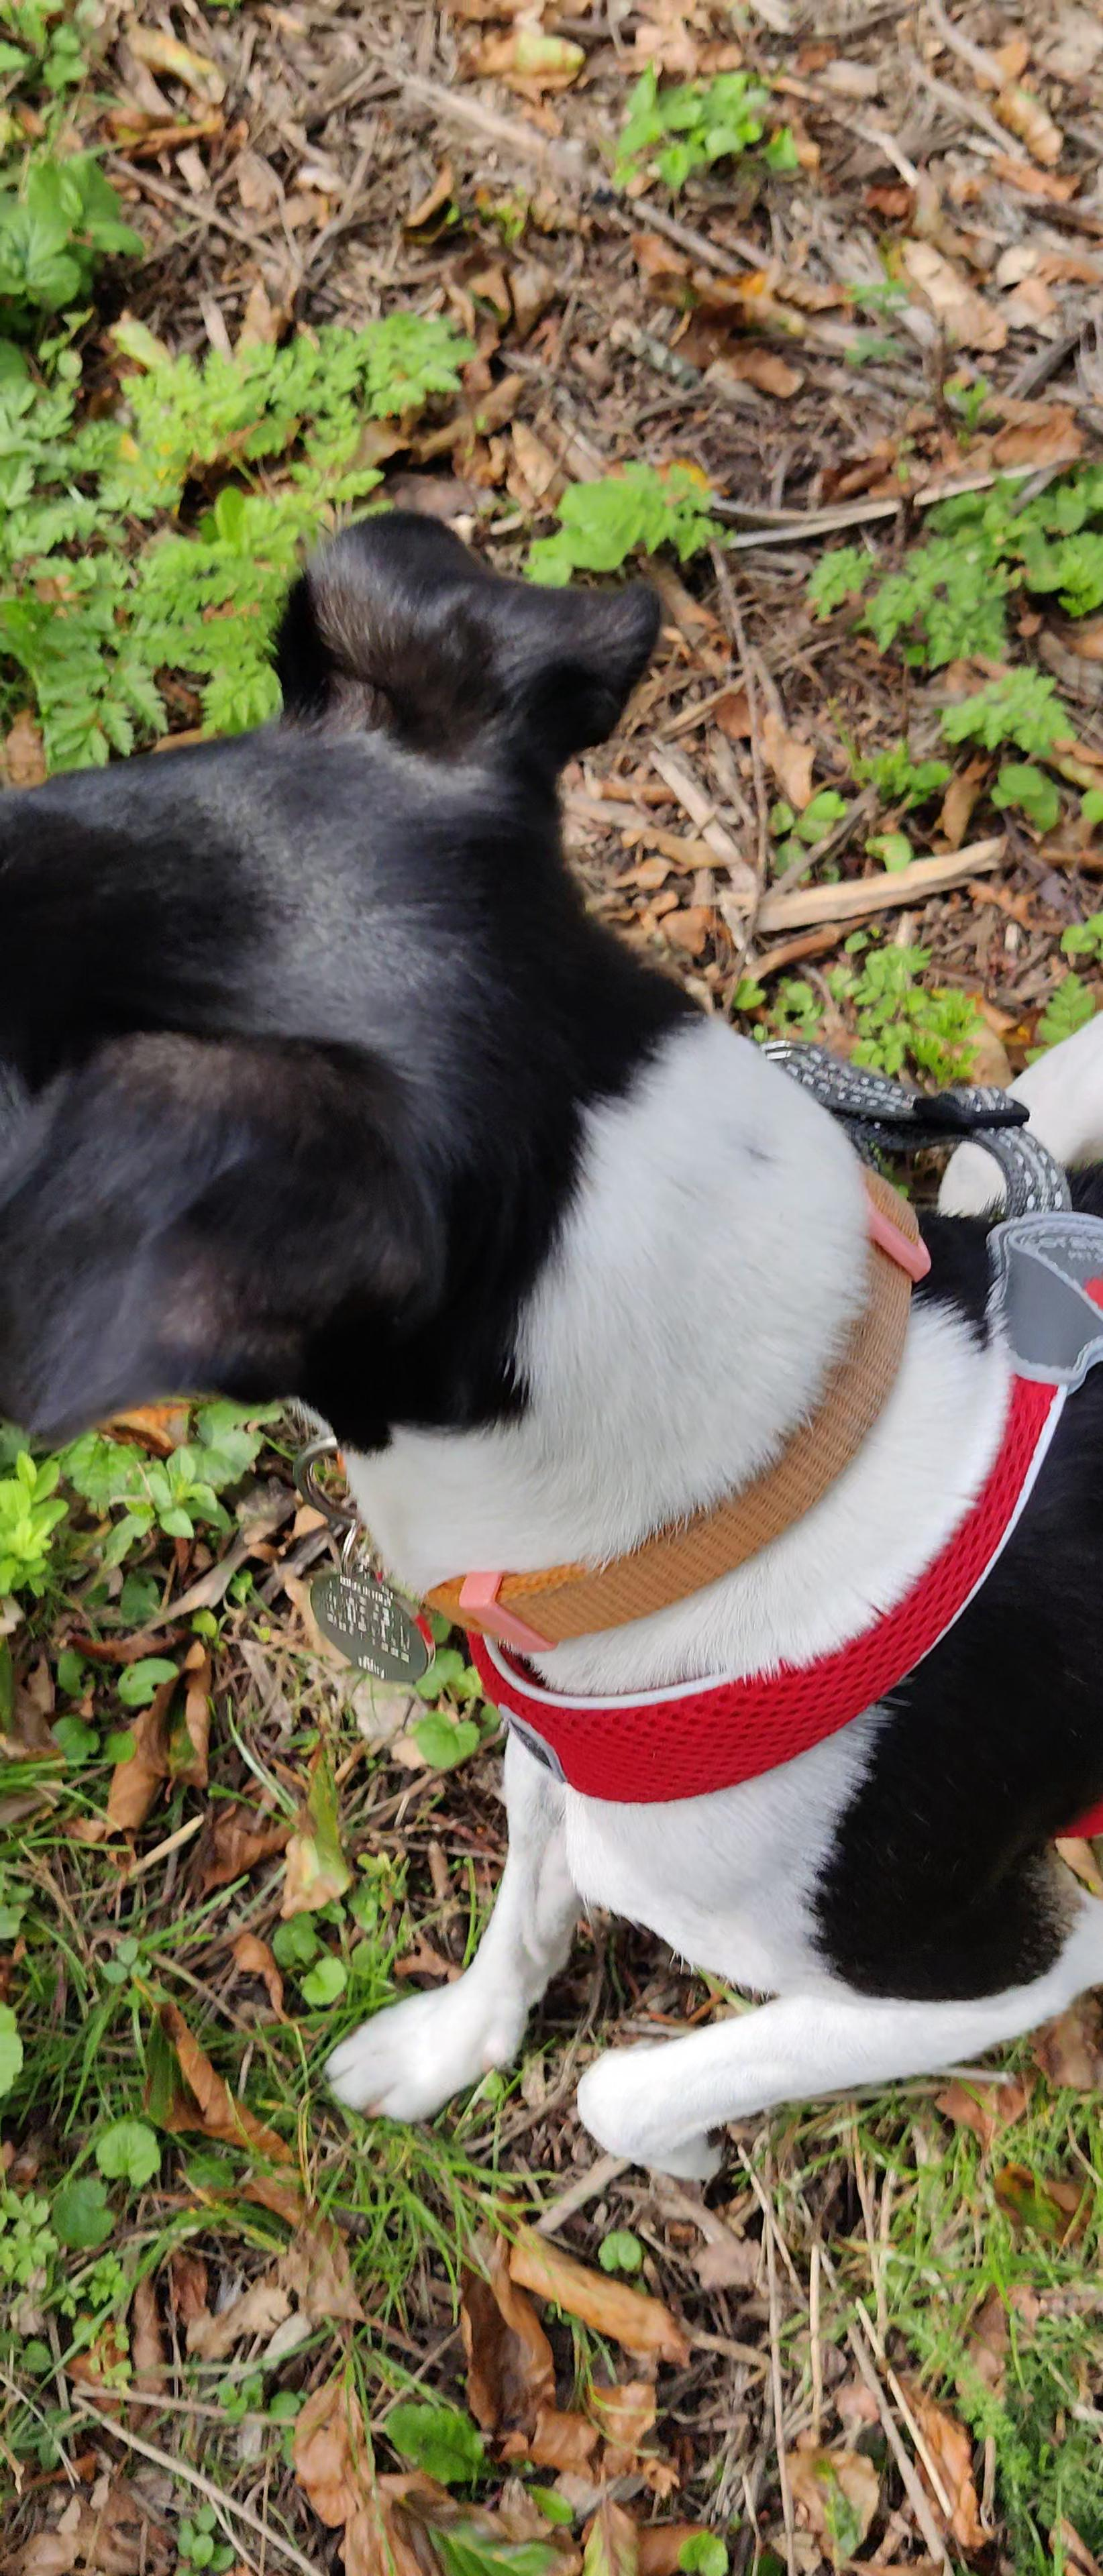Dog: (0, 483, 1103, 2198)
